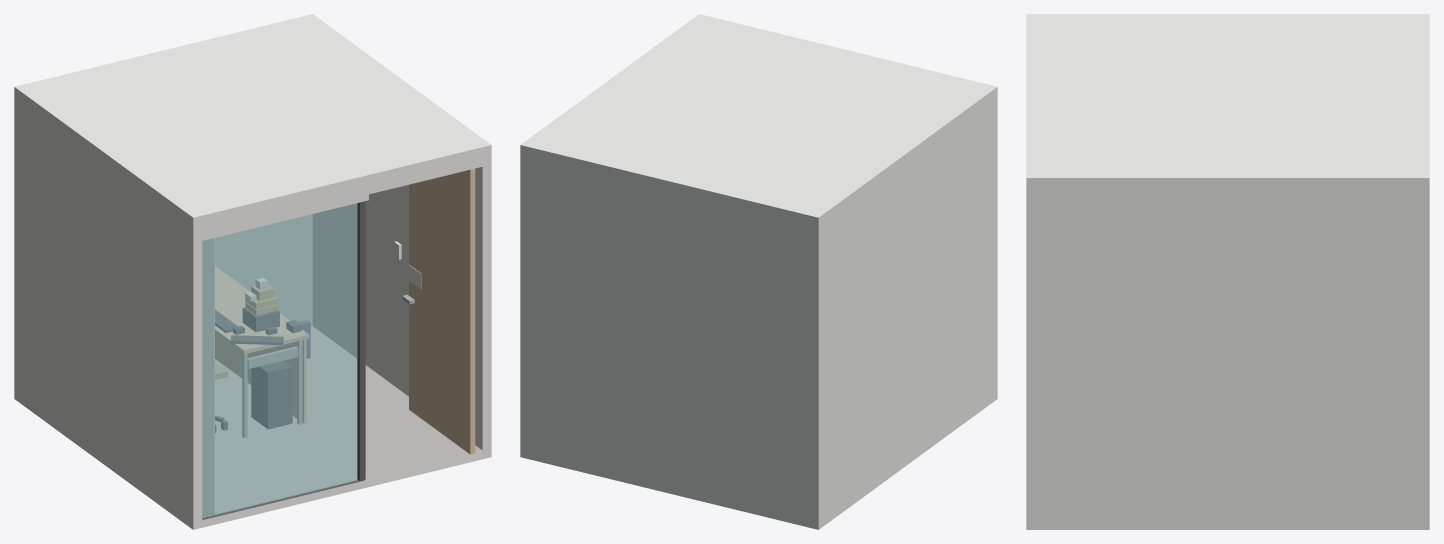
File: room_v1.glb
3 renders of one model, left to right at view 1: azimuth 30°, elevation 25°; view 2: azimuth 150°, elevation 25°; view 3: azimuth 270°, elevation 25°, orthographic. The views are drawn at different scales.
Parts seen in each view (by area): view 1: wall_west, ceiling, clear_architectural_glass, floor, wood_veneer, wall_east, wall_south, wall_north, laminate_wood, painted_drywall_white, black_anodized_aluminium, fabric_plastic (+4 smaller); view 2: wall_north, wall_west, ceiling; view 3: wall_east, ceiling.
Part boxes in pixels (bbox=[...]): wall_west: bbox=[14, 87, 193, 529]; ceiling: bbox=[14, 14, 490, 217]; clear_architectural_glass: bbox=[202, 203, 357, 518]; floor: bbox=[215, 326, 482, 514]; wood_veneer: bbox=[409, 168, 475, 454]; wall_east: bbox=[312, 166, 482, 450]; wall_south: bbox=[193, 145, 491, 529]; wall_north: bbox=[215, 214, 312, 326]; laminate_wood: bbox=[215, 266, 309, 423]; painted_drywall_white: bbox=[202, 238, 214, 517]; black_anodized_aluminium: bbox=[202, 201, 365, 519]; fabric_plastic: bbox=[251, 360, 292, 429]; wall_north: bbox=[520, 145, 818, 529]; wall_west: bbox=[818, 87, 997, 529]; ceiling: bbox=[521, 14, 997, 217]; wall_east: bbox=[1026, 178, 1429, 529]; ceiling: bbox=[1026, 14, 1429, 177].
Bounding box in the file's own units: 2.56 × 2.56 × 2.66.
